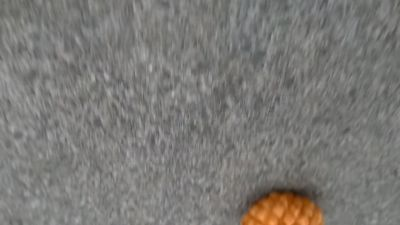eggs: (235, 191, 326, 225)
